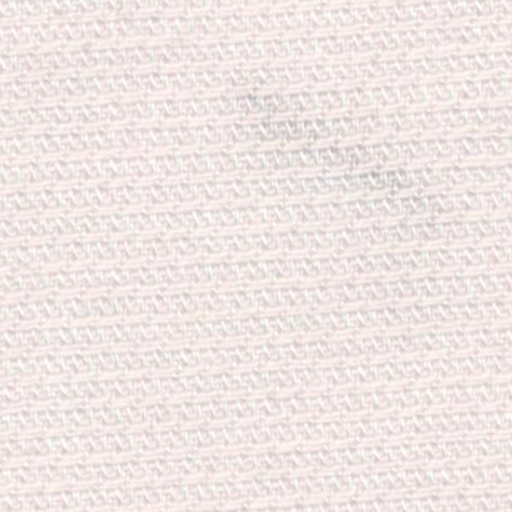WuZi: (220, 52, 454, 230)
